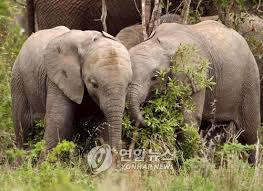Elephant: (7, 28, 133, 160)
